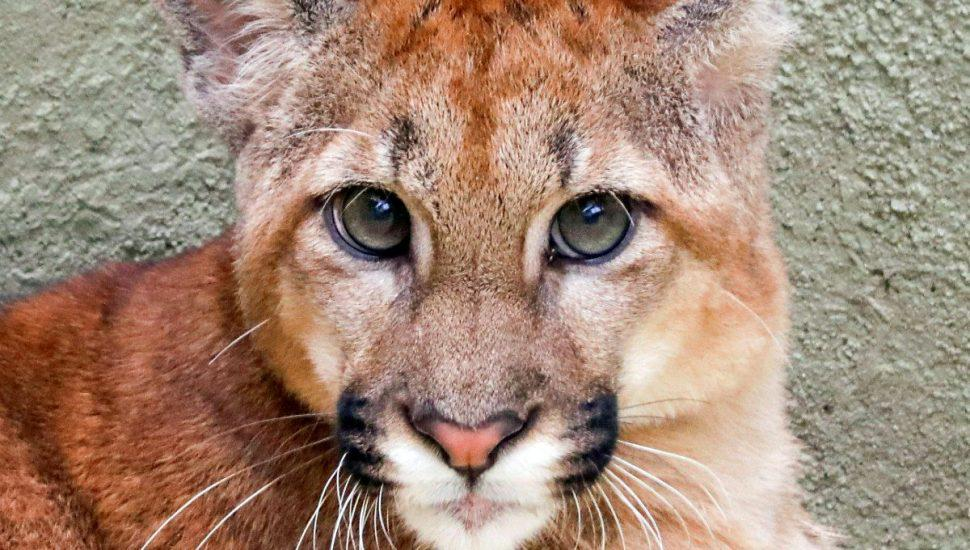OncaParda: (11, 7, 813, 539)
